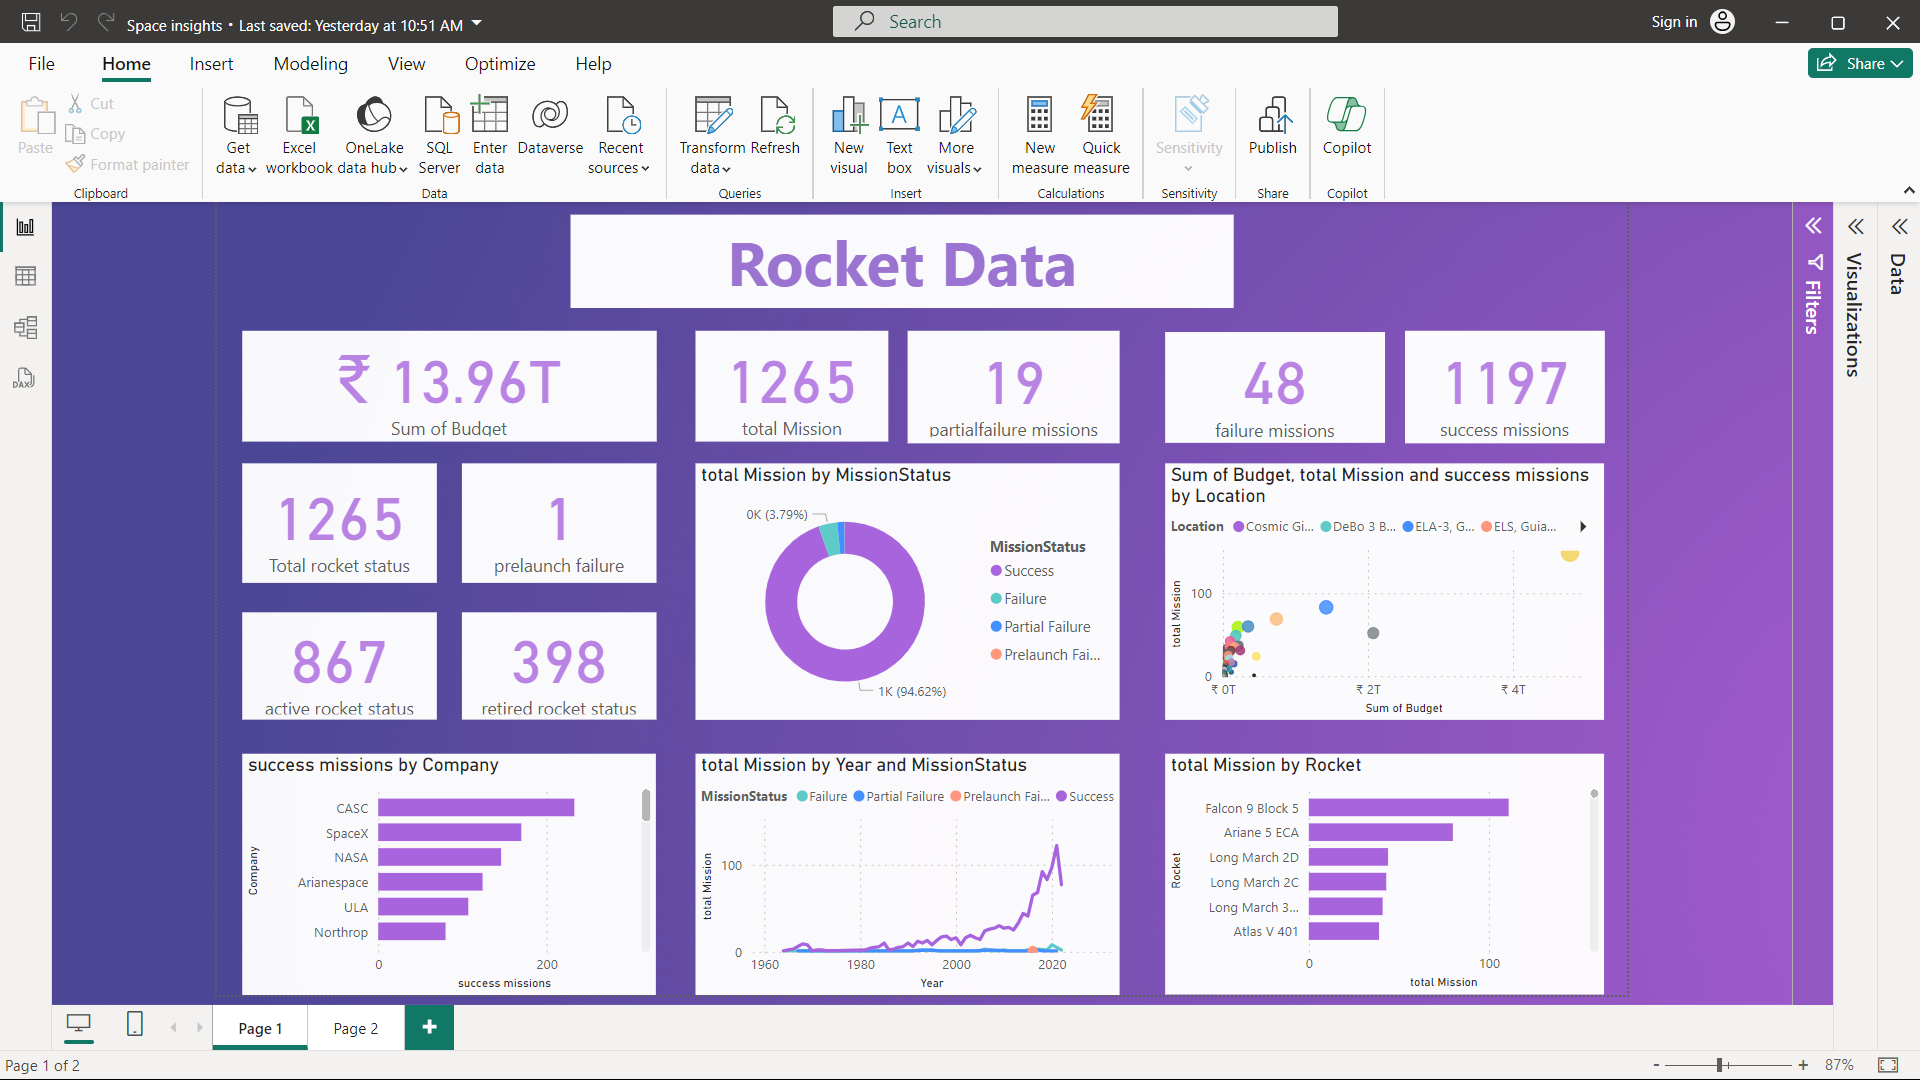

The dashboard page shown, as its layout file describes it:
{"tool":"powerbi","page":{"name":"Page 1","canvas":[1280,720],"ordinal":0},"visuals":[{"type":"card","title":"Anto''s visual","fields":{"Values":["Sum(space_missions.Budget)"]},"box":[22.9,116.9,375.9,100.8],"z":0},{"type":"card","title":"Total missions","fields":{"Values":["all_measures.total Mission"]},"box":[434.3,116.9,175.3,100.8],"z":1000},{"type":"card","fields":{"Values":["all_measures.failure missions"]},"box":[860.6,118,199.4,100.8],"z":2000},{"type":"card","fields":{"Values":["all_measures.success missions"]},"box":[1078.3,116.9,181.1,102],"z":3000},{"type":"card","fields":{"Values":["all_measures.prelaunch failure"]},"box":[222.3,237.2,176.5,108.9],"z":4000},{"type":"card","fields":{"Values":["all_measures.Total rocket status"]},"box":[22.9,237.2,176.5,108.9],"z":5000},{"type":"card","title":"Active Rocket Status","fields":{"Values":["all_measures.active rocket status"]},"box":[22.9,372.4,176.5,97.4],"z":6000},{"type":"card","fields":{"Values":["all_measures.retired rocket status"]},"box":[222.3,372.4,176.5,97.4],"z":7000},{"type":"card","fields":{"Values":["all_measures.partialfailure missions"]},"box":[626.8,116.9,192.5,102],"z":8000},{"type":"lineChart","fields":{"Category":["Date Table.Year"],"Y":["all_measures.total Mission"],"Series":["space_missions.MissionStatus"]},"box":[434.7,500.7,385.3,219.1],"z":9000},{"type":"clusteredBarChart","fields":{"Category":["space_missions.Company"],"Y":["all_measures.success missions"]},"box":[22.4,500.7,375.8,219.1],"z":10000},{"type":"clusteredBarChart","fields":{"Y":["all_measures.total Mission"],"Category":["space_missions.Rocket"]},"box":[860.6,500.8,398.8,218.9],"z":11000},{"type":"scatterChart","fields":{"X":["Sum(space_missions.Budget)"],"Series":["space_missions.Location"],"Size":["all_measures.success missions"],"Y":["all_measures.total Mission"]},"box":[860.6,237.2,398.8,232.6],"z":12000},{"type":"donutChart","fields":{"Category":["space_missions.MissionStatus"],"Y":["all_measures.total Mission"]},"box":[434.3,237.2,385,232.6],"z":13000},{"type":"textbox","box":[320.9,11.5,601.6,84.8],"z":14000}]}

Visuals, with their boxes on the page's 1280x720 design canvas (x1, y1, x2, y2). These are canvas units, not pixel positions in the 1920x1080 screenshot, which may show the page scaled, cropped or inside an application window:
"Anto''s visual" card: left=23, top=117, right=399, bottom=218
"Total missions" card: left=434, top=117, right=610, bottom=218
card - all_measures.failure missions: left=861, top=118, right=1060, bottom=219
card - all_measures.success missions: left=1078, top=117, right=1259, bottom=219
card - all_measures.prelaunch failure: left=222, top=237, right=399, bottom=346
card - all_measures.Total rocket status: left=23, top=237, right=199, bottom=346
"Active Rocket Status" card: left=23, top=372, right=199, bottom=470
card - all_measures.retired rocket status: left=222, top=372, right=399, bottom=470
card - all_measures.partialfailure missions: left=627, top=117, right=819, bottom=219
lineChart - Date Table.Year x all_measures.total Mission: left=435, top=501, right=820, bottom=720
clusteredBarChart - space_missions.Company x all_measures.success missions: left=22, top=501, right=398, bottom=720
clusteredBarChart - all_measures.total Mission x space_missions.Rocket: left=861, top=501, right=1259, bottom=720
scatterChart - Sum(space_missions.Budget) x space_missions.Location: left=861, top=237, right=1259, bottom=470
donutChart - space_missions.MissionStatus x all_measures.total Mission: left=434, top=237, right=819, bottom=470
textbox: left=321, top=12, right=922, bottom=96
